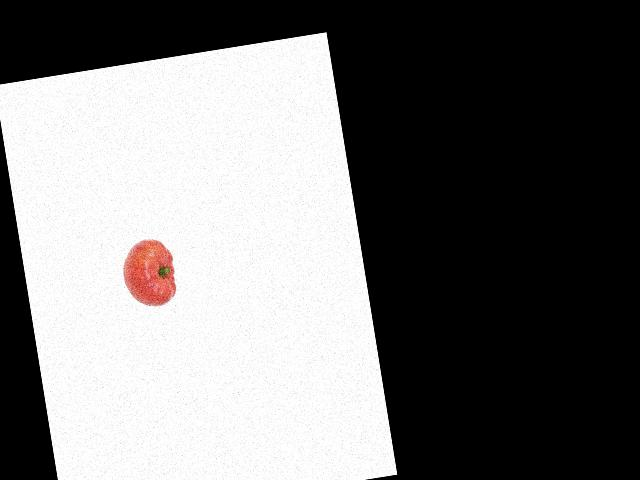tomato: (118, 235, 178, 310)
